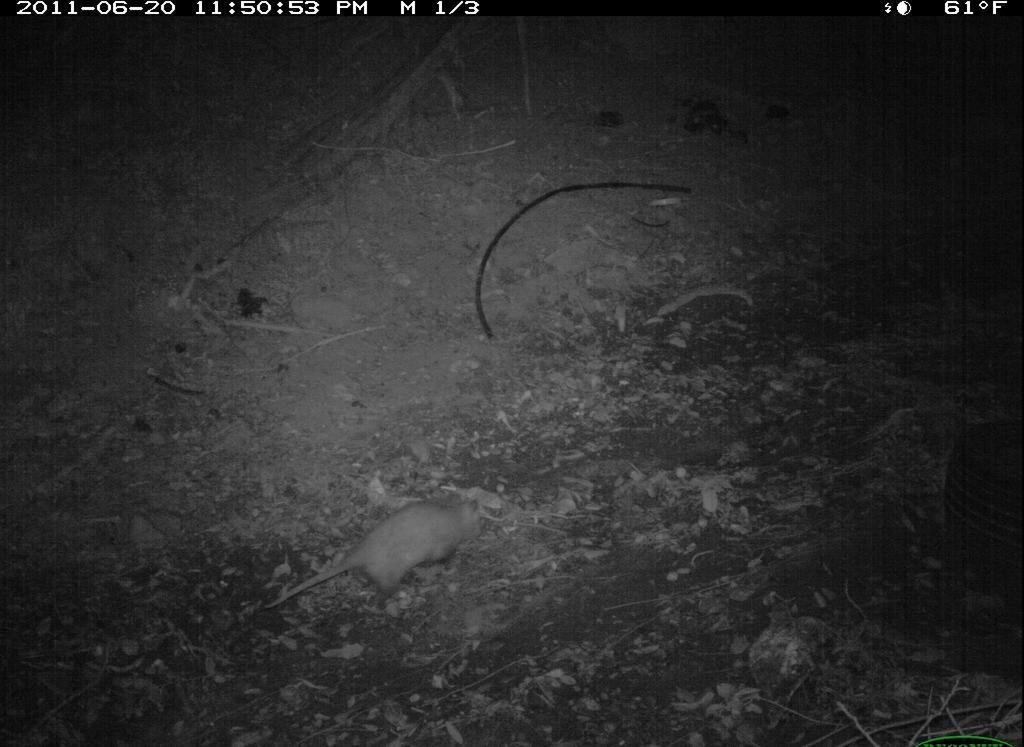opossum: (246, 482, 545, 633)
